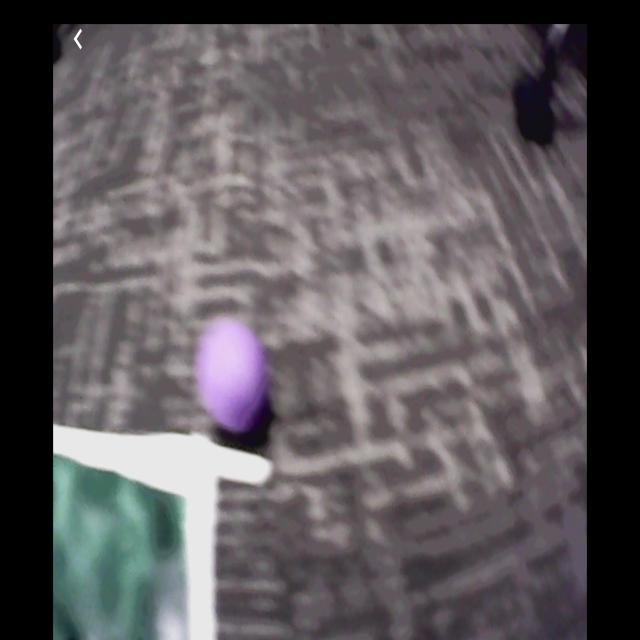ball: (194, 316, 272, 436)
